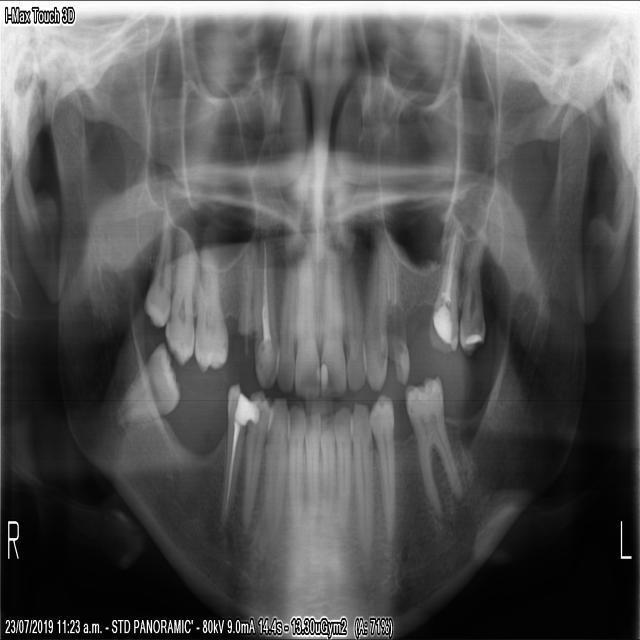LCD: (346, 396, 374, 554)
LCU: (359, 227, 389, 395)
LID: (329, 400, 353, 525), (315, 411, 337, 518)
LIU: (317, 232, 347, 403), (341, 242, 368, 395)
LMD: (401, 365, 462, 526)
LMU: (423, 208, 467, 360), (457, 215, 486, 360)
LPMD: (367, 386, 397, 548)
RCD: (260, 392, 291, 559)
RCU: (250, 215, 279, 391)
RID: (283, 395, 307, 537), (300, 401, 320, 526)
RIU: (290, 220, 319, 400), (271, 225, 295, 395)
RMD: (111, 337, 181, 433)
RMU: (191, 227, 230, 377), (138, 201, 175, 335), (163, 223, 194, 369)
RPMD: (214, 375, 255, 532), (239, 381, 276, 537)
